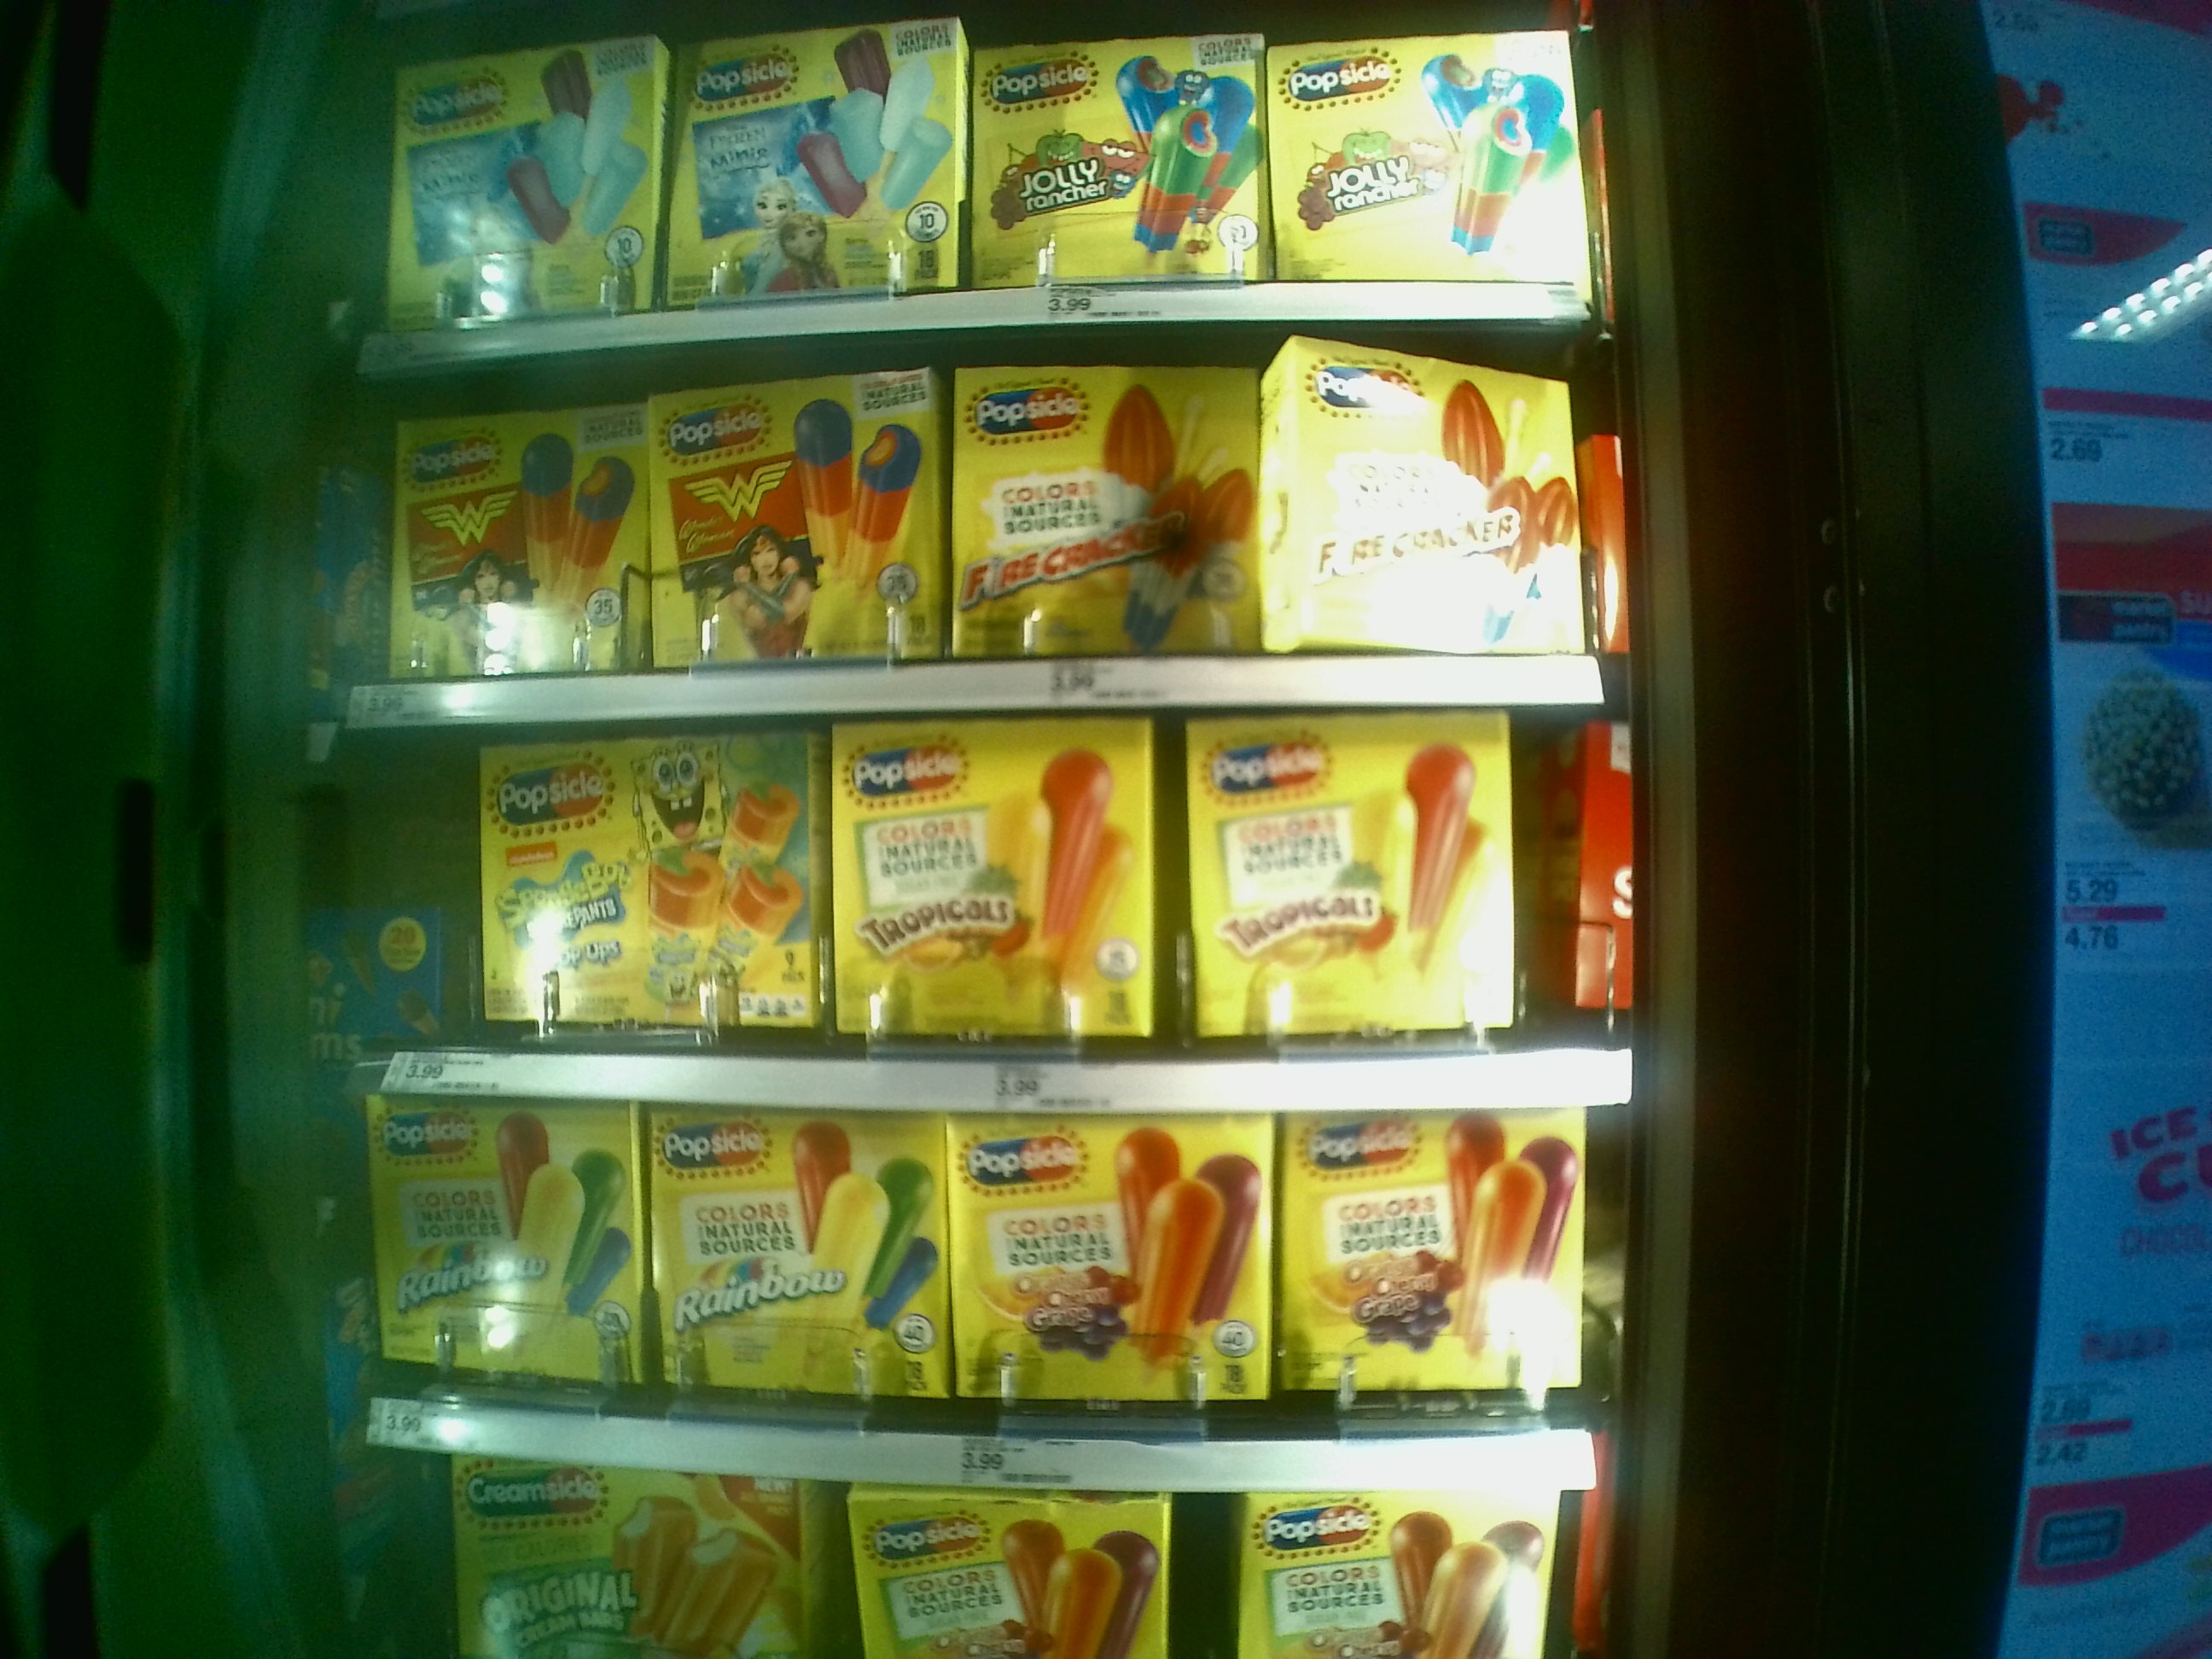frozen-food-shelf: (341, 735, 1656, 1114), (394, 1110, 1583, 1490), (317, 394, 1641, 730)
